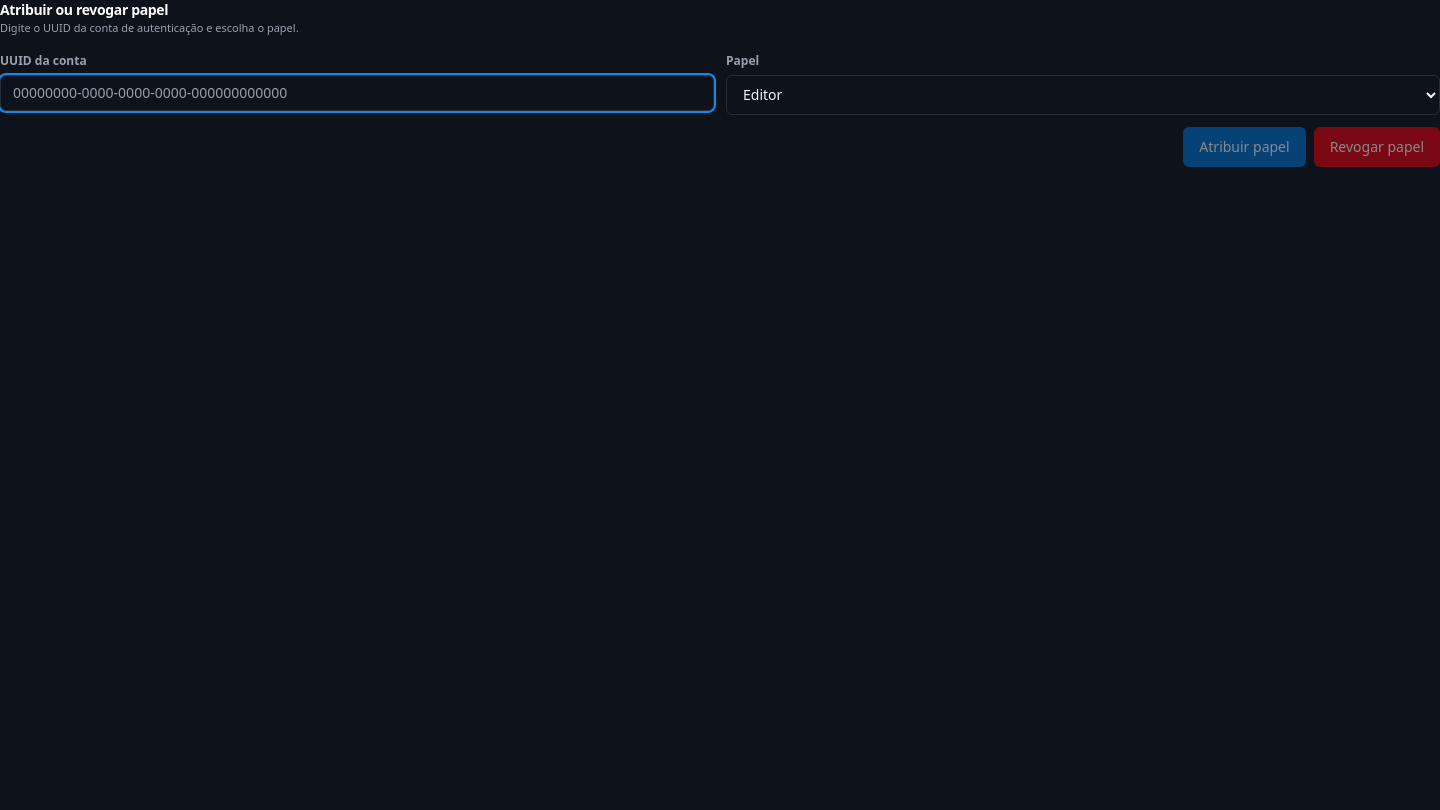
it: Confirmação operacional › confirma Revogar papel, fecha e atualiza o Server Component
This screenshot has width=1440, height=810.
Type " ABCDEFAB-1234-1234-1234-ABCDEFABCDEF " into the field labelled "UUID da conta". click: (357, 92)
box: [0,74,714,110]
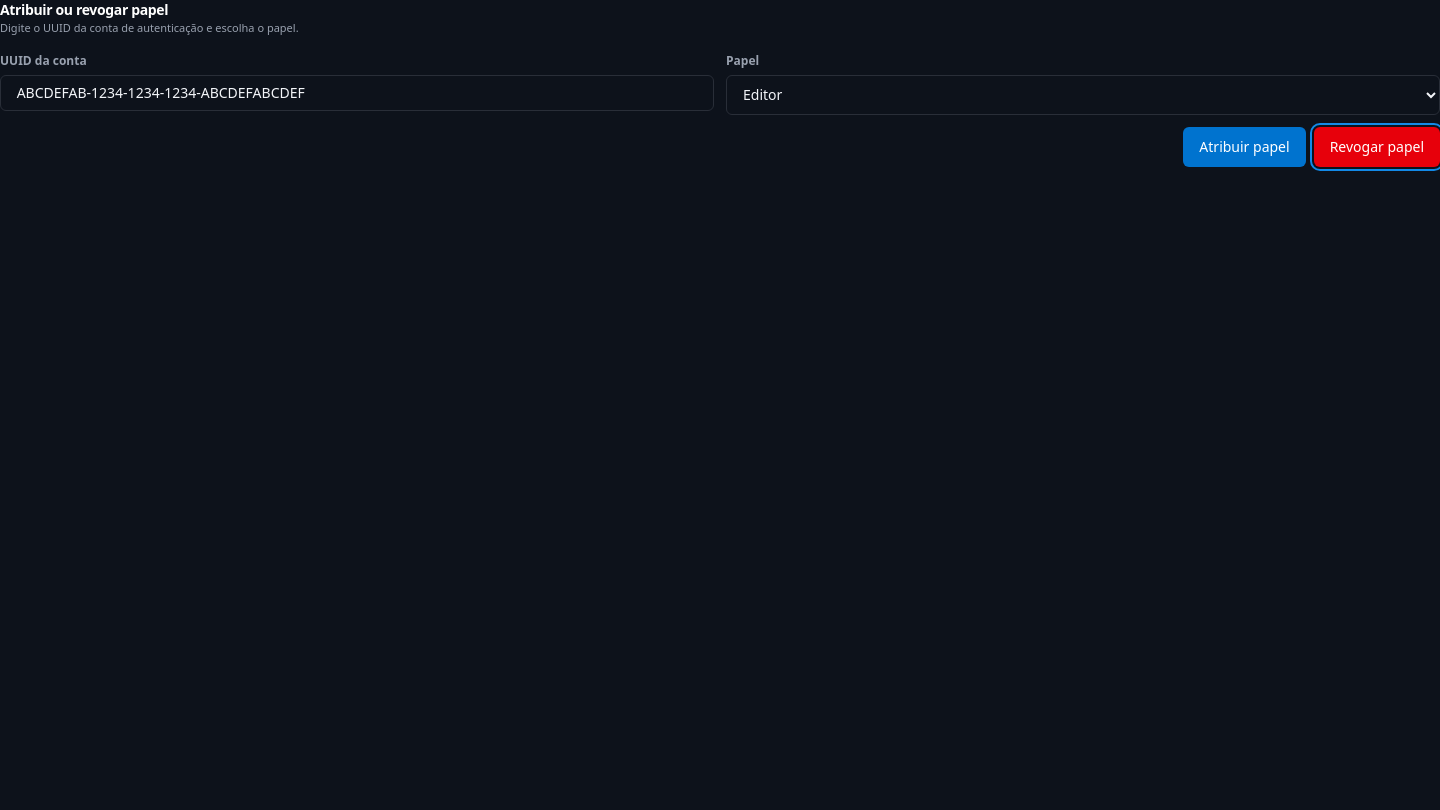
Click the button "Revogar papel". click: (1377, 146)
box: [1314,126,1439,166]
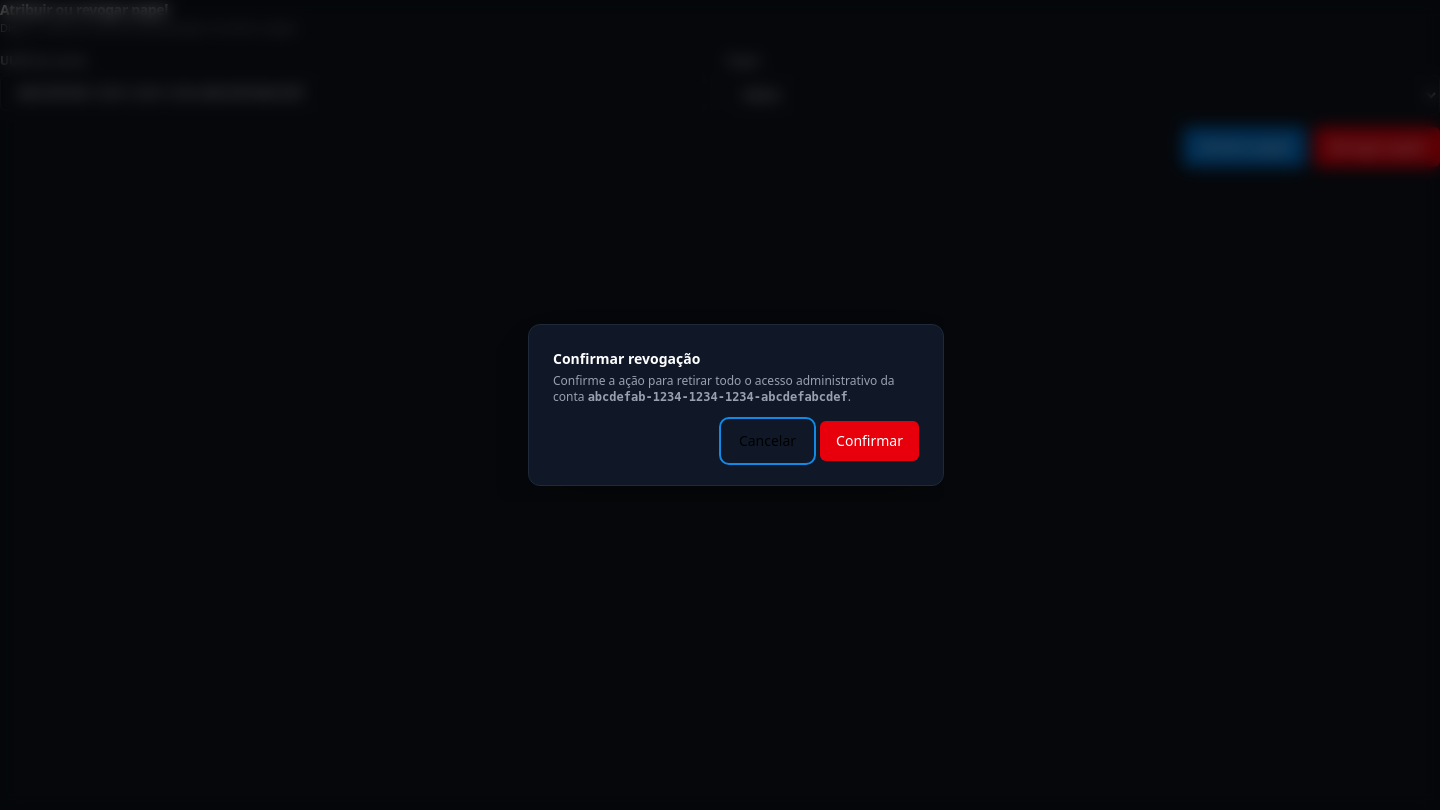
Click the button "Confirmar". click: (870, 441)
box: [820,421,919,461]
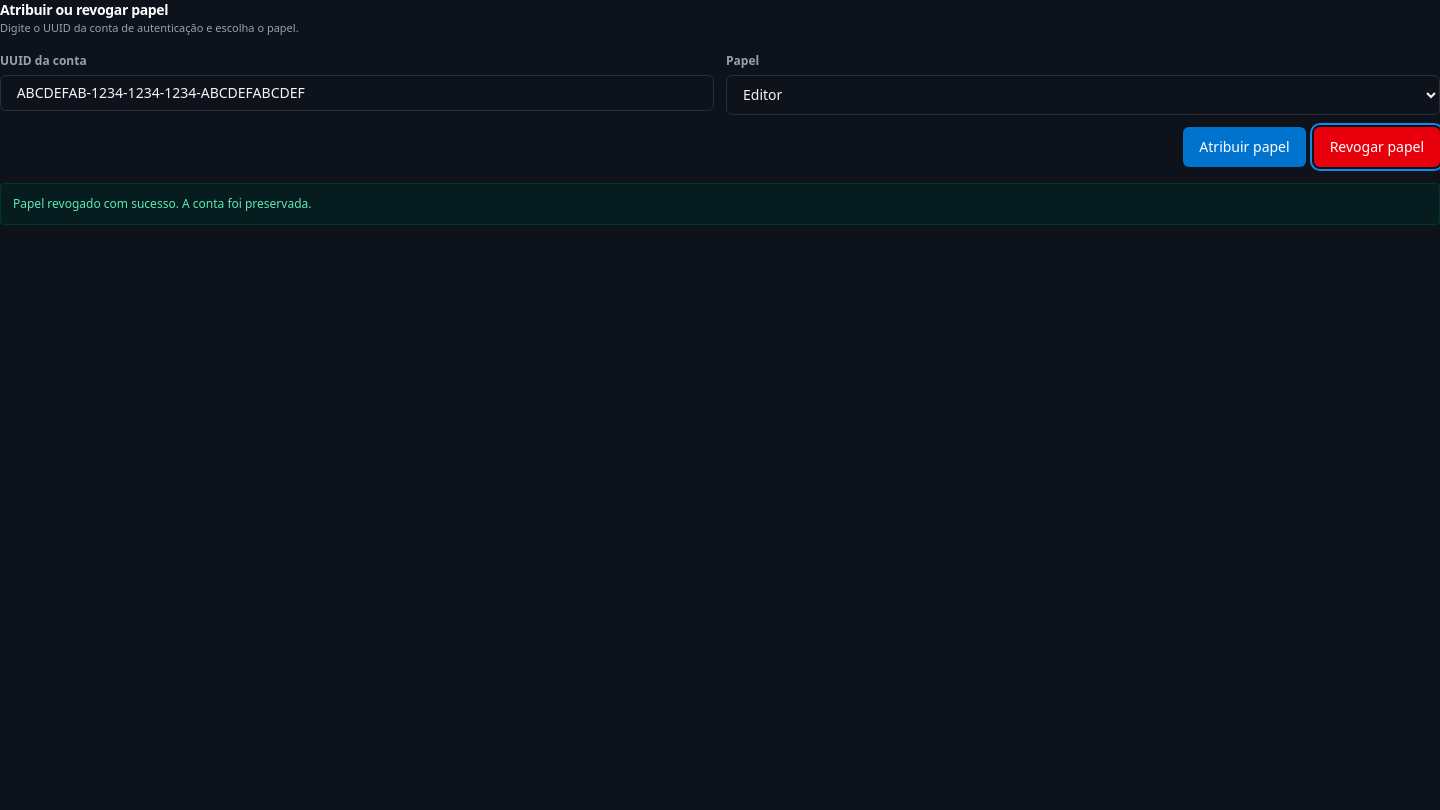
Expected: the dialog is gone
